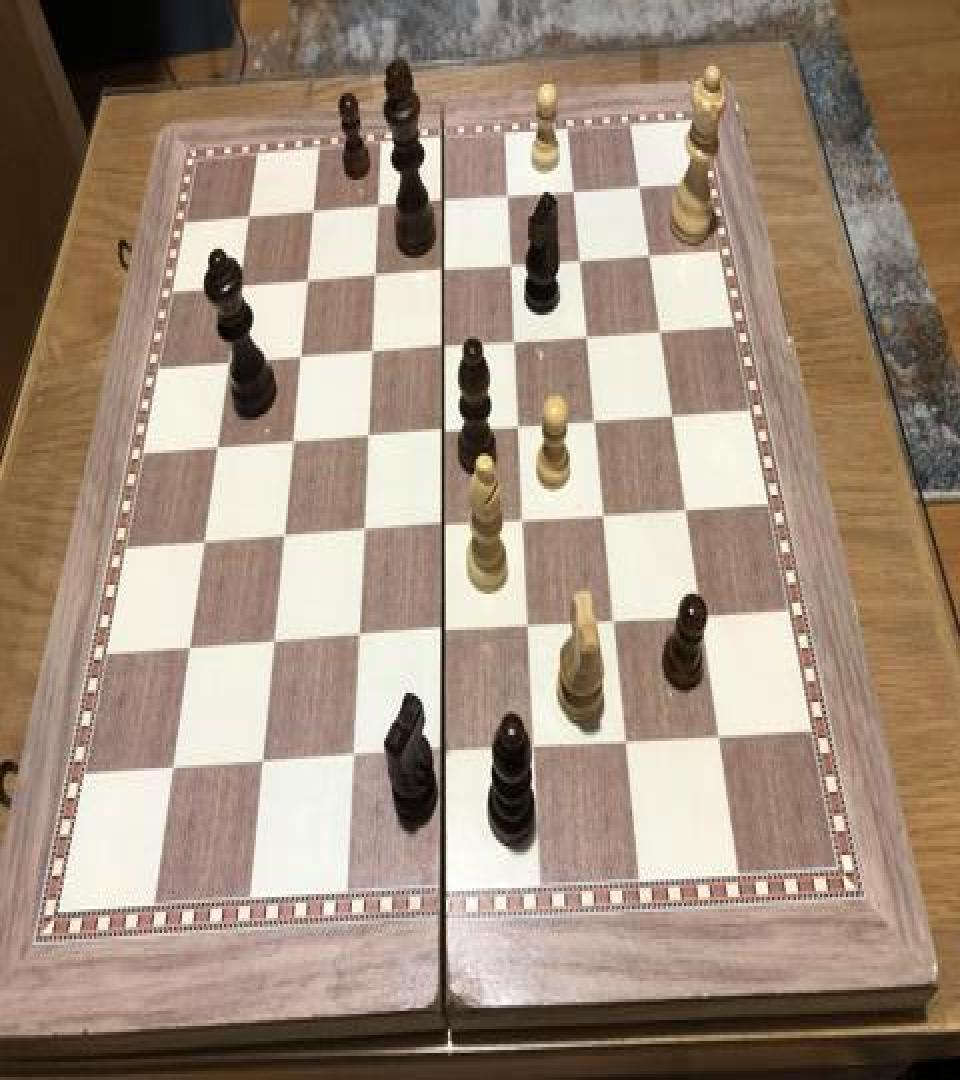xcorner: (348, 625, 372, 662), (263, 631, 287, 668), (179, 637, 203, 674), (524, 733, 548, 770), (432, 739, 456, 776), (630, 171, 654, 207), (564, 176, 588, 212), (498, 182, 522, 218), (368, 194, 392, 230), (303, 198, 327, 234), (239, 204, 263, 240), (639, 240, 663, 276), (570, 244, 594, 280), (502, 250, 526, 286), (433, 256, 457, 292), (365, 262, 389, 298), (297, 268, 321, 304), (229, 273, 253, 309), (650, 315, 674, 351), (577, 321, 601, 357), (505, 327, 529, 363), (433, 333, 457, 369), (361, 339, 385, 375), (290, 345, 314, 381), (219, 350, 243, 386), (662, 399, 686, 435), (585, 405, 609, 441), (509, 411, 533, 447), (433, 417, 457, 453), (357, 423, 381, 459), (282, 429, 306, 465), (207, 435, 231, 471), (675, 494, 699, 530), (594, 500, 618, 536), (513, 506, 537, 542), (433, 513, 457, 549), (353, 519, 377, 555), (273, 525, 297, 561), (193, 531, 217, 567), (690, 600, 714, 636), (604, 606, 628, 642), (518, 612, 542, 648), (433, 620, 457, 656), (707, 720, 731, 756), (615, 726, 639, 762), (342, 746, 366, 782), (252, 752, 276, 788), (162, 759, 186, 795), (433, 188, 457, 223)
